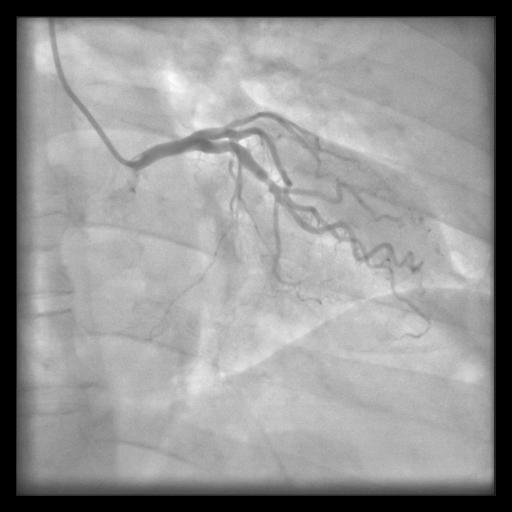Stenosis: (264, 172, 273, 190)
